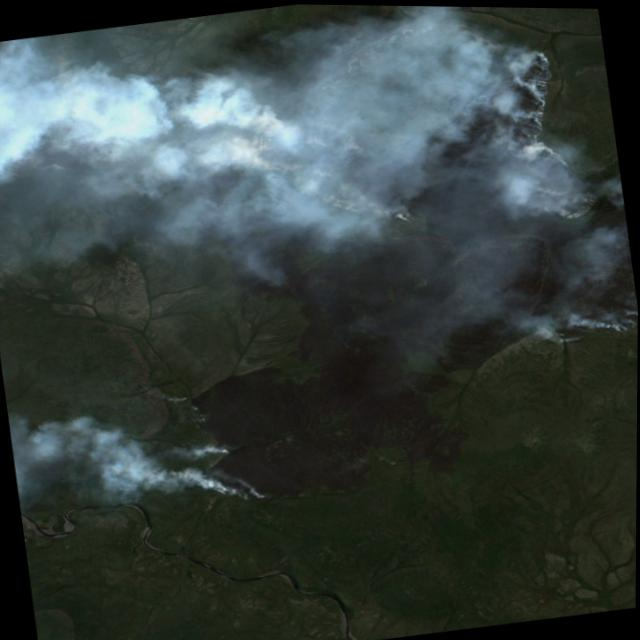fire: (493, 31, 609, 235), (230, 100, 369, 189), (164, 432, 280, 516), (326, 172, 429, 236), (531, 293, 638, 354), (0, 124, 88, 190), (23, 74, 82, 118)
